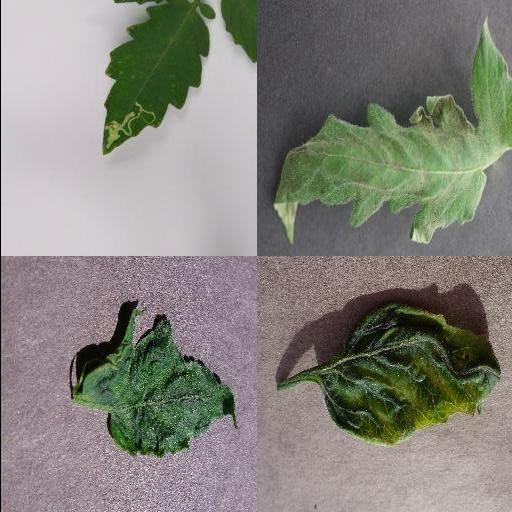Late Blight: (272, 15, 512, 249)
Leaf Miner: (100, 0, 208, 156)
Mosaic Virus: (79, 307, 240, 459)
Yellow Leaf Curl Virus: (315, 304, 501, 446)
